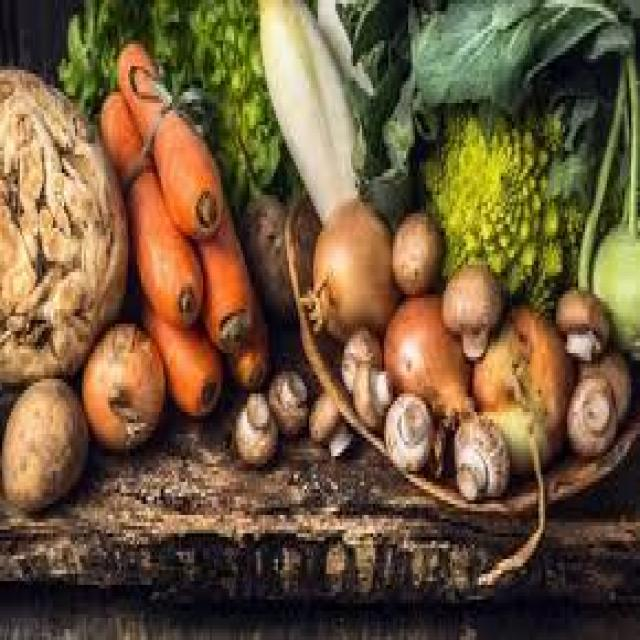organic waste: (333, 0, 638, 206), (55, 0, 280, 191), (0, 63, 126, 375), (415, 85, 583, 302), (97, 85, 203, 320), (256, 0, 360, 221), (114, 29, 220, 236), (468, 294, 574, 478), (302, 195, 393, 335), (377, 287, 470, 423), (570, 63, 624, 283), (137, 276, 223, 412), (0, 375, 82, 511), (589, 147, 638, 357), (82, 320, 163, 445), (194, 195, 250, 357), (313, 0, 373, 107), (221, 258, 267, 386), (442, 258, 504, 350), (452, 412, 503, 497), (554, 280, 609, 356), (388, 206, 437, 287), (565, 372, 613, 452), (382, 386, 428, 467), (578, 350, 629, 420), (618, 52, 638, 225), (346, 357, 391, 430), (304, 379, 348, 452), (338, 324, 384, 390), (232, 394, 276, 459), (267, 368, 305, 430)
